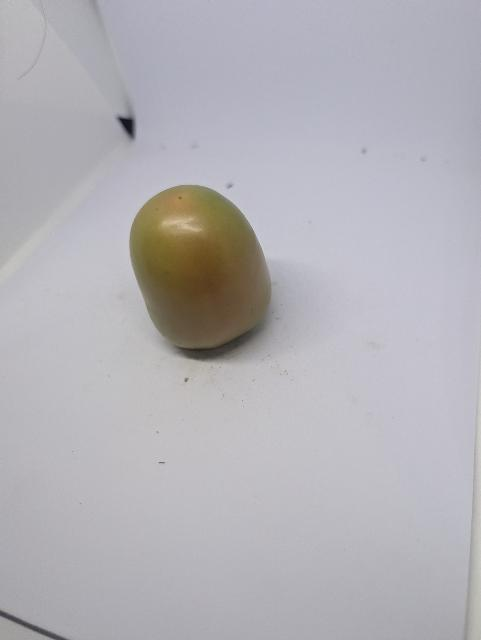breaker: (123, 182, 276, 357)
